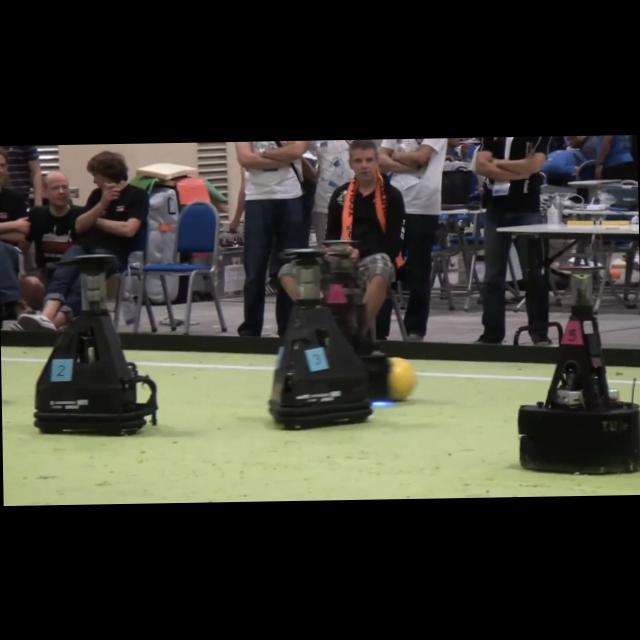ball: (387, 358, 414, 400)
robot: (518, 272, 640, 473), (34, 254, 157, 434), (269, 249, 372, 428), (320, 243, 390, 400)
